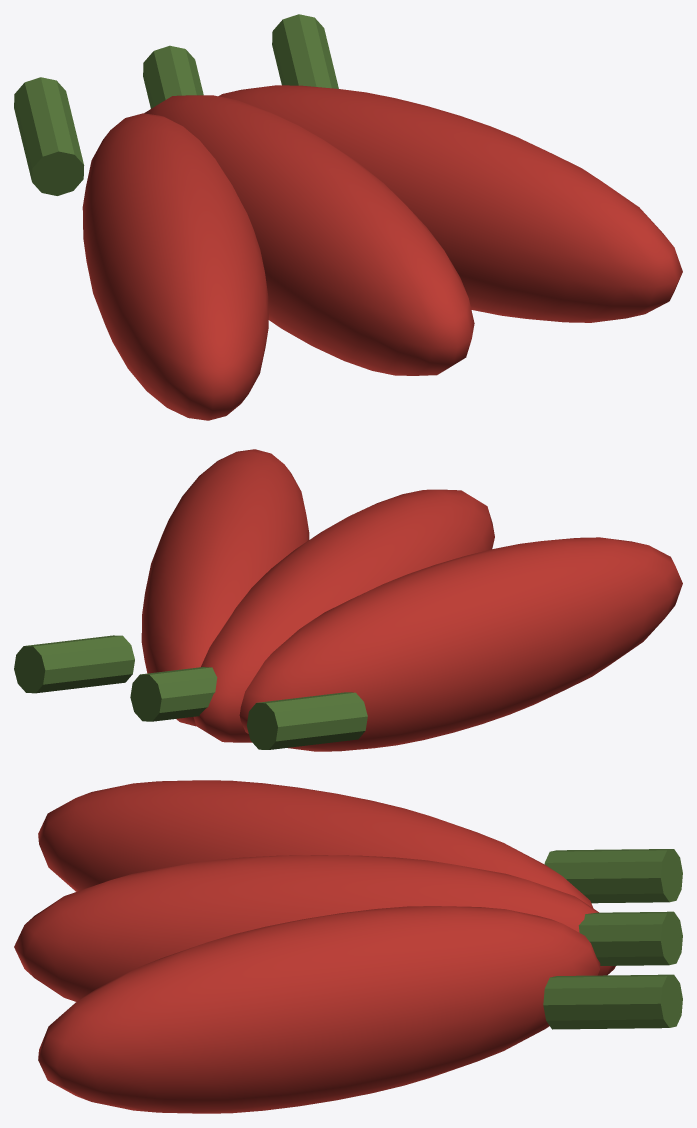
Rendered from food_choripan_runtime.glb.
The picture shows the model from 3 angles, top to bottom: view 1: azimuth 30°, elevation 25°; view 2: azimuth 150°, elevation 25°; view 3: azimuth 270°, elevation 25°; orthographic projection. The views are drawn at different scales.
Visible parts, largest first — view 1: Chili pepper.002, Chili pepper.001, Chili pepper, Stem, Stem.002, Stem.001; view 2: Chili pepper, Chili pepper.001, Chili pepper.002, Stem.002, Stem, Stem.001; view 3: Chili pepper.002, Chili pepper.001, Chili pepper, Stem.002, Stem, Stem.001.
Part boxes in pixels (box(x1,y1,x2,y2)): Chili pepper.002: box(218, 85, 682, 322); Chili pepper.001: box(144, 95, 474, 375); Chili pepper: box(82, 113, 268, 420); Stem: box(14, 77, 84, 195); Stem.002: box(272, 14, 338, 88); Stem.001: box(143, 45, 203, 108); Chili pepper: box(239, 537, 682, 751); Chili pepper.001: box(193, 489, 494, 742); Chili pepper.002: box(141, 449, 309, 726); Stem.002: box(14, 635, 134, 693); Stem: box(246, 692, 367, 749); Stem.001: box(130, 667, 217, 721); Chili pepper.002: box(38, 906, 600, 1113); Chili pepper.001: box(14, 855, 615, 1001); Chili pepper: box(38, 780, 593, 908); Stem.002: box(543, 974, 682, 1029); Stem: box(544, 849, 682, 903); Stem.001: box(578, 911, 682, 965).
Size of the model in its own units: 0.7444 by 0.24 by 0.8542.
